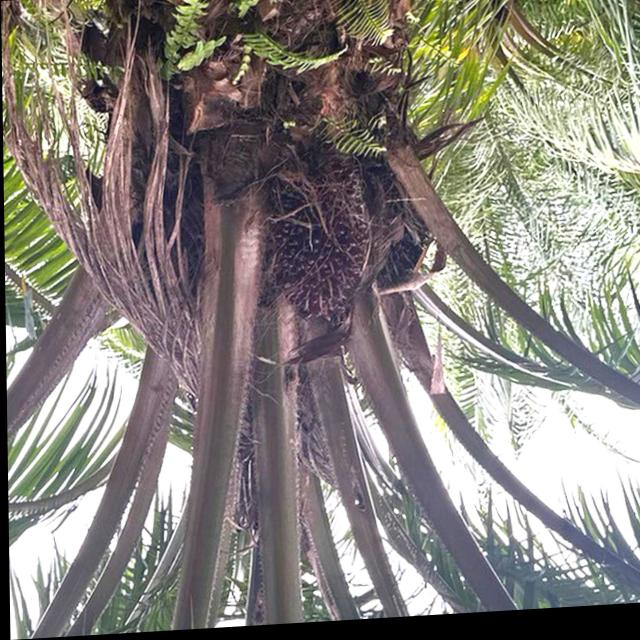ripe: (250, 159, 379, 335)
